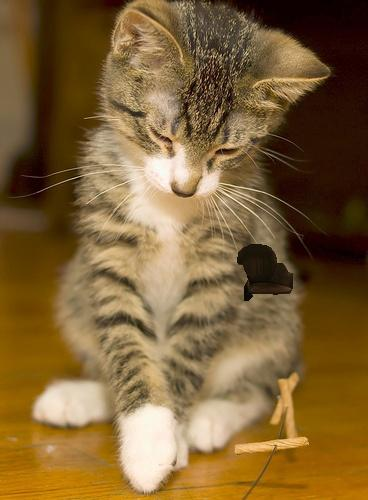tampered: (238, 245, 293, 301)
